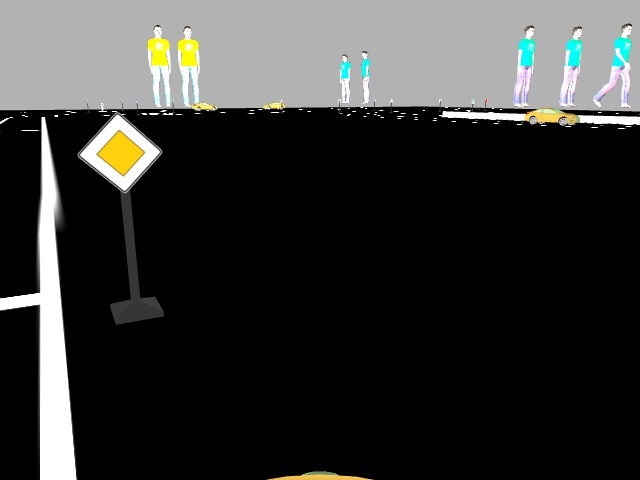Priority: (83, 113, 158, 192)
